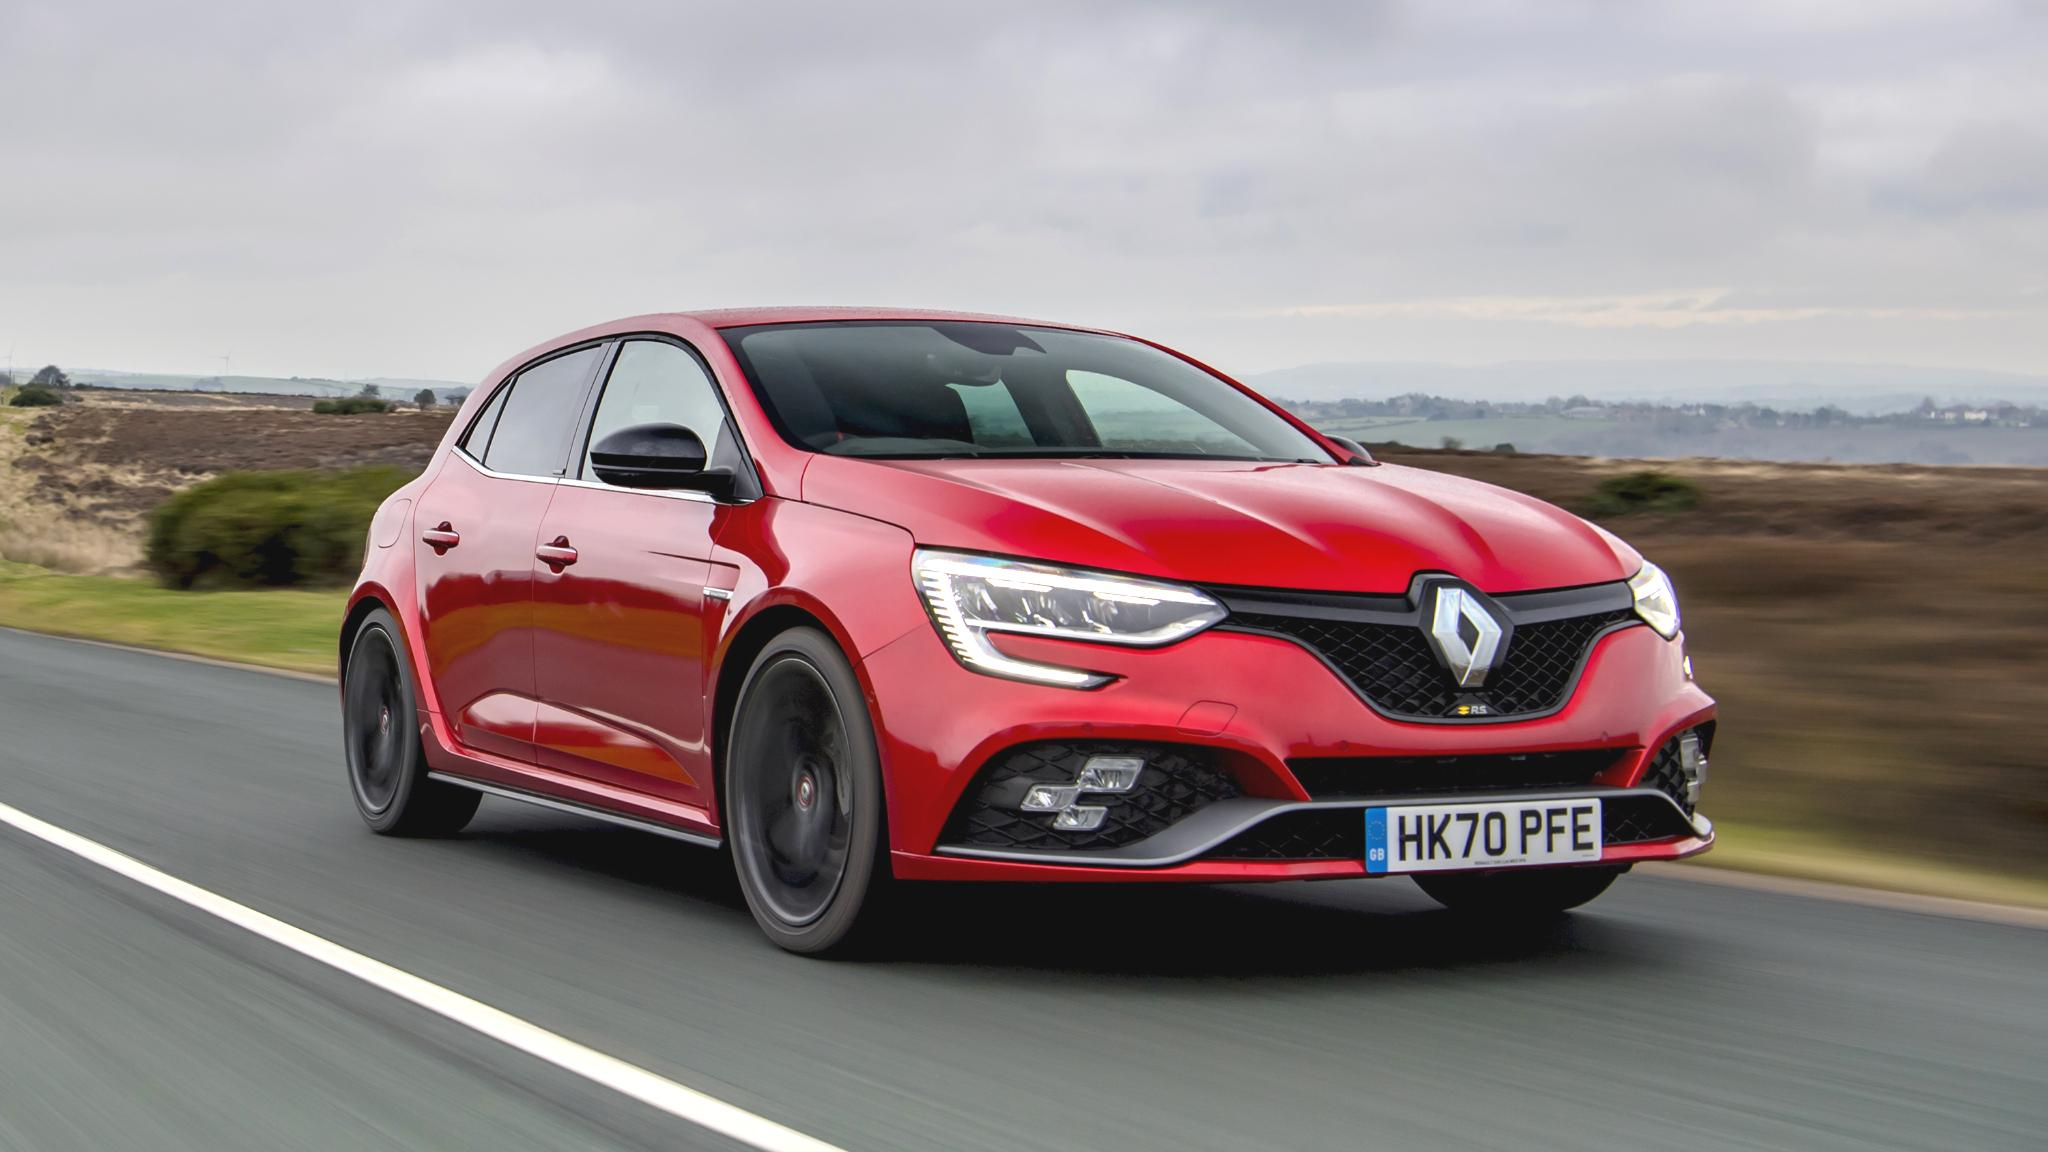Renault: (1397, 549, 1532, 705)
